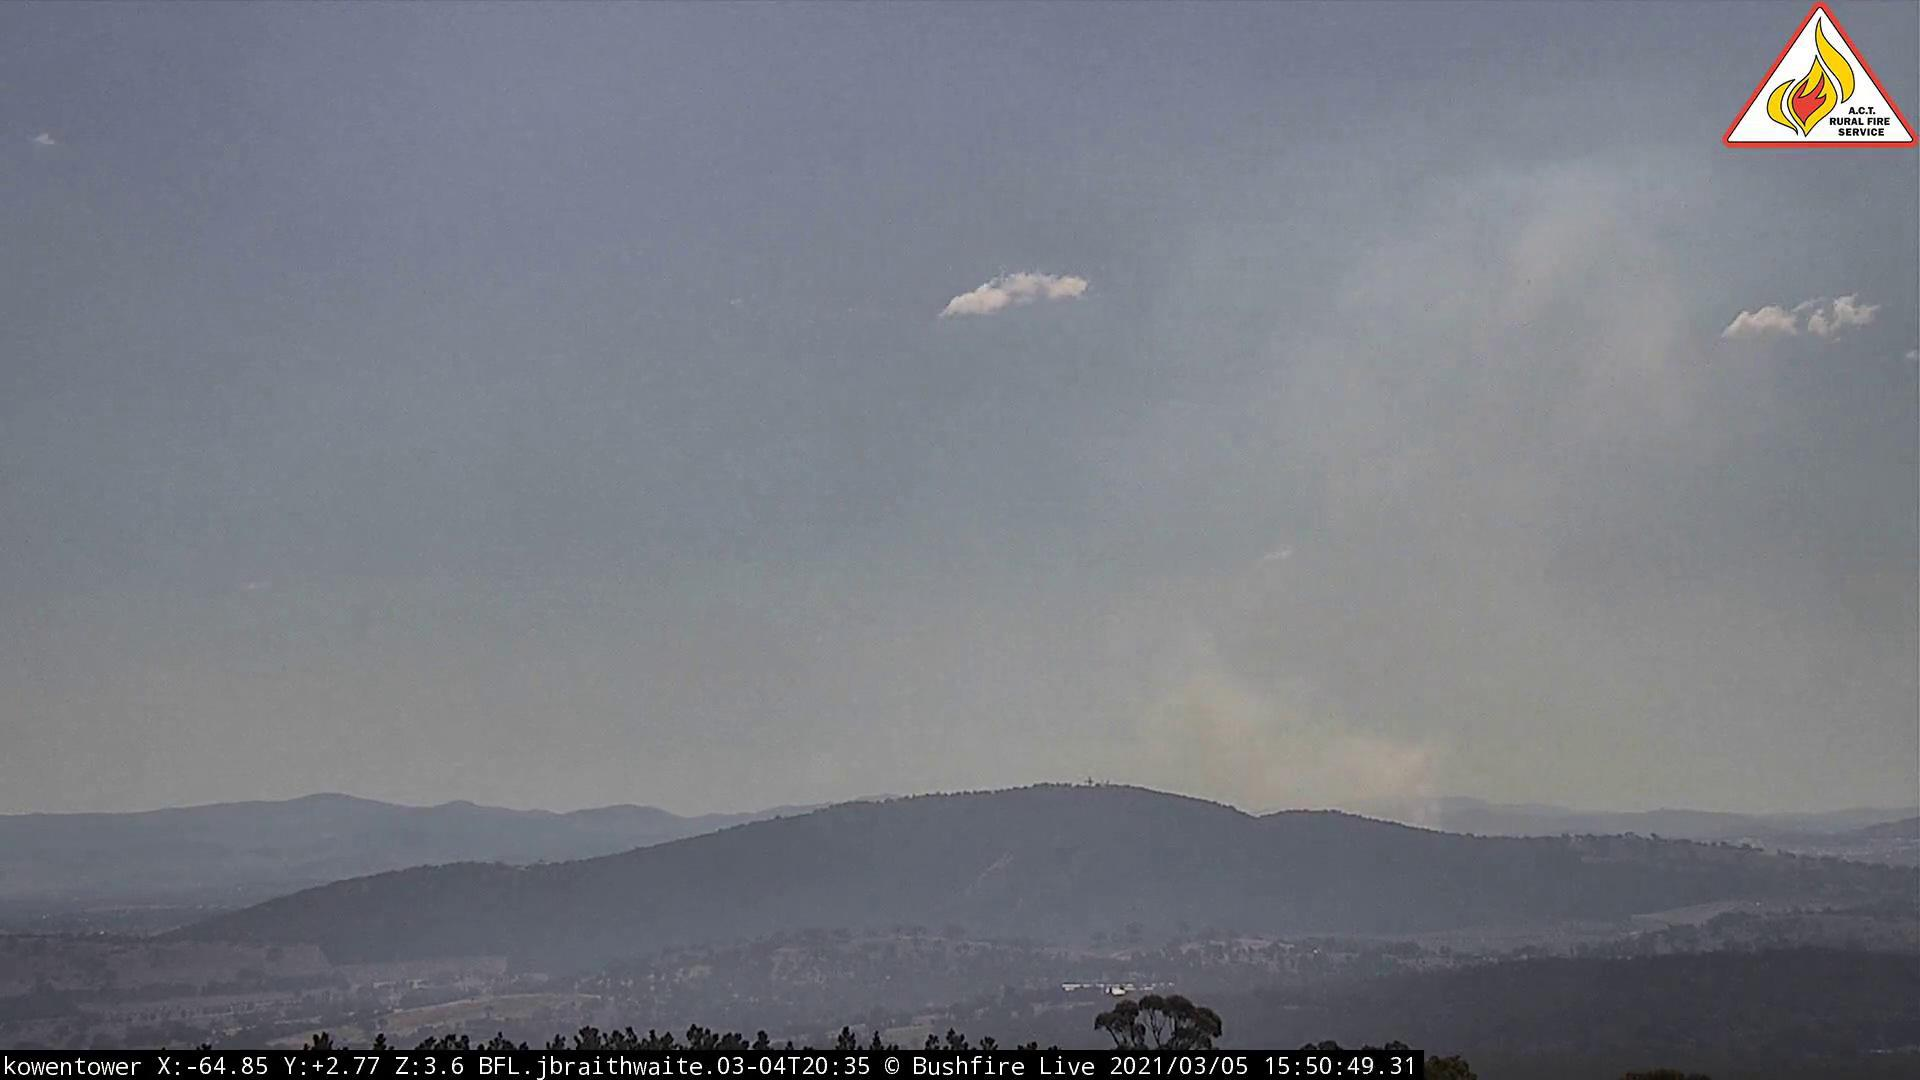instance_salient_object: (980, 160, 1782, 822)
